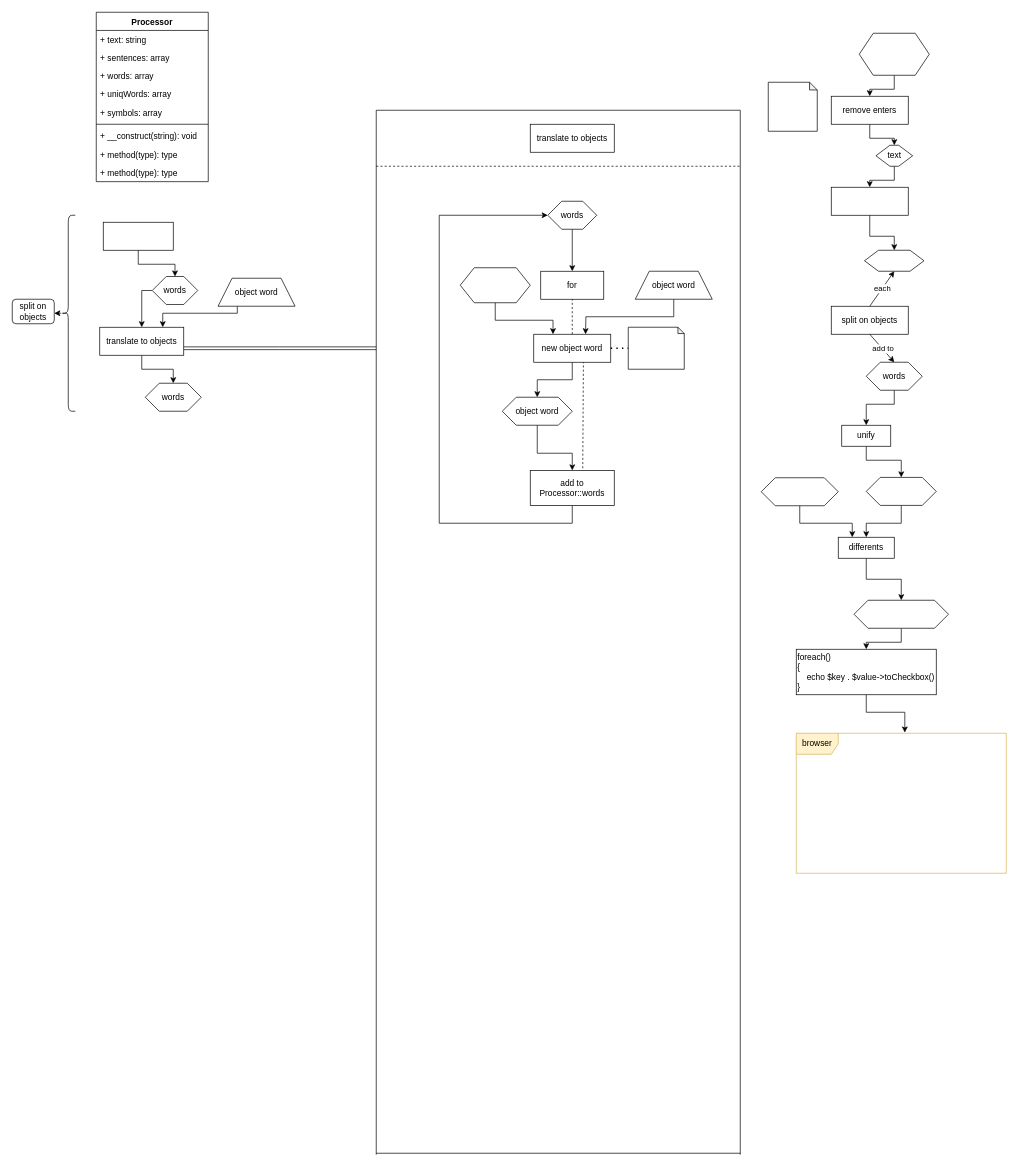
Image size: 1019x1168. Some labels were removed from this diagram. The shapes that lost their labels are listed below. From the top down, each one's centre as x and y in pixels, then its label:
At point 894,54: "received text".
At point 792,106: "context is sentence".
At point 869,201: "split on sentences".
At point 138,236: "split on words".
At point 894,260: "sentences".
At point 495,285: "this sentence".
At point 656,348: "using word from words".
At point 799,491: "learned words".
At point 901,491: "unique words".
At point 900,614: "not learned words".
